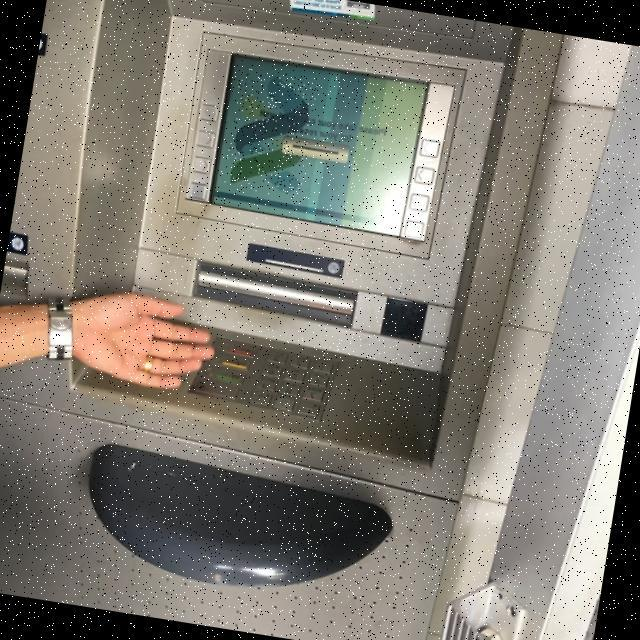Standard Chartered: (223, 67, 319, 200)
